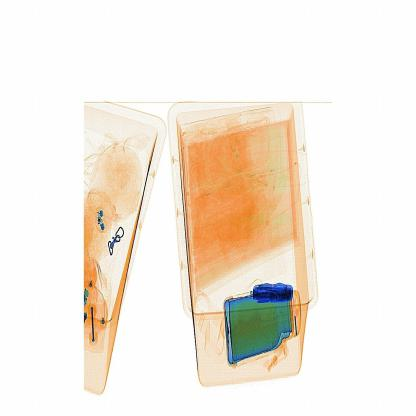scissors: (247, 274, 294, 312)
